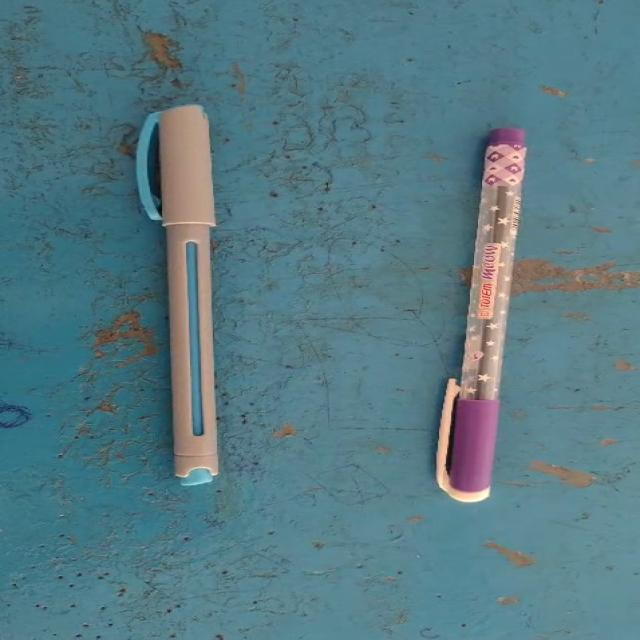pen: (73, 81, 294, 528), (415, 82, 586, 530)
